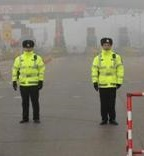person: (12, 39, 46, 124), (92, 36, 123, 126)
